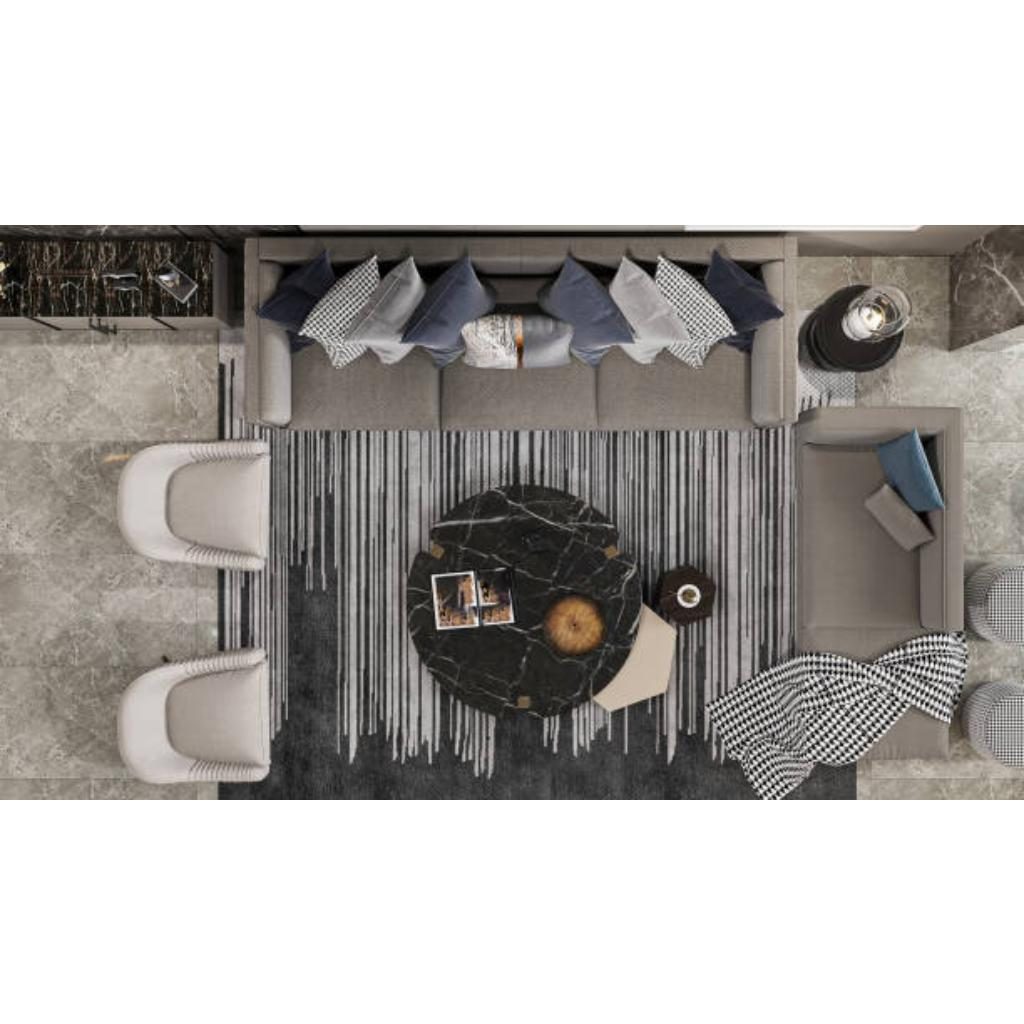chair: (116, 646, 276, 786), (120, 438, 274, 568)
coffee table: (395, 482, 717, 714)
rug: (220, 310, 858, 798)
side table: (814, 281, 906, 371)
sideboard: (0, 236, 222, 324)
sofa: (244, 235, 794, 423), (802, 408, 964, 760)
